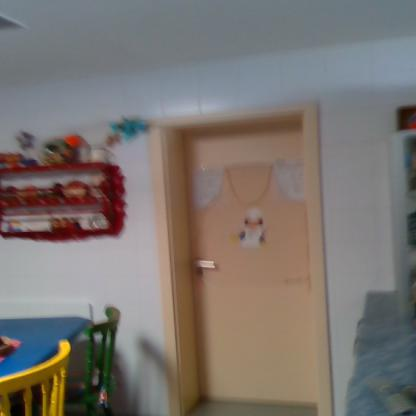door: (184, 133, 323, 406)
lever: (193, 258, 220, 272)
